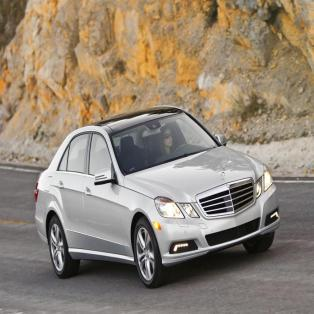Auto: (34, 105, 281, 290)
